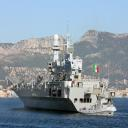Portanaves: (7, 19, 110, 115)
